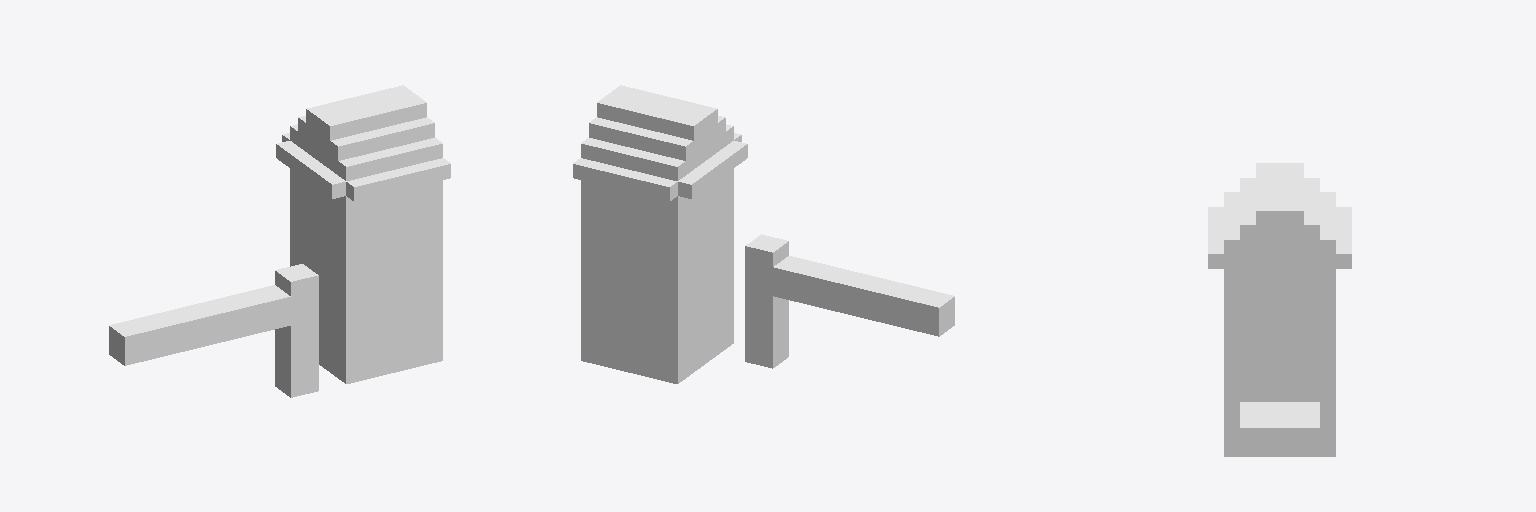
Rendered from Tollhouse.obj.
3 views of the same model, side by side, from view 1: azimuth 30°, elevation 25°; view 2: azimuth 150°, elevation 25°; view 3: azimuth 270°, elevation 25° (orthographic).
Size of the model in its own units: 23 by 17 by 9.